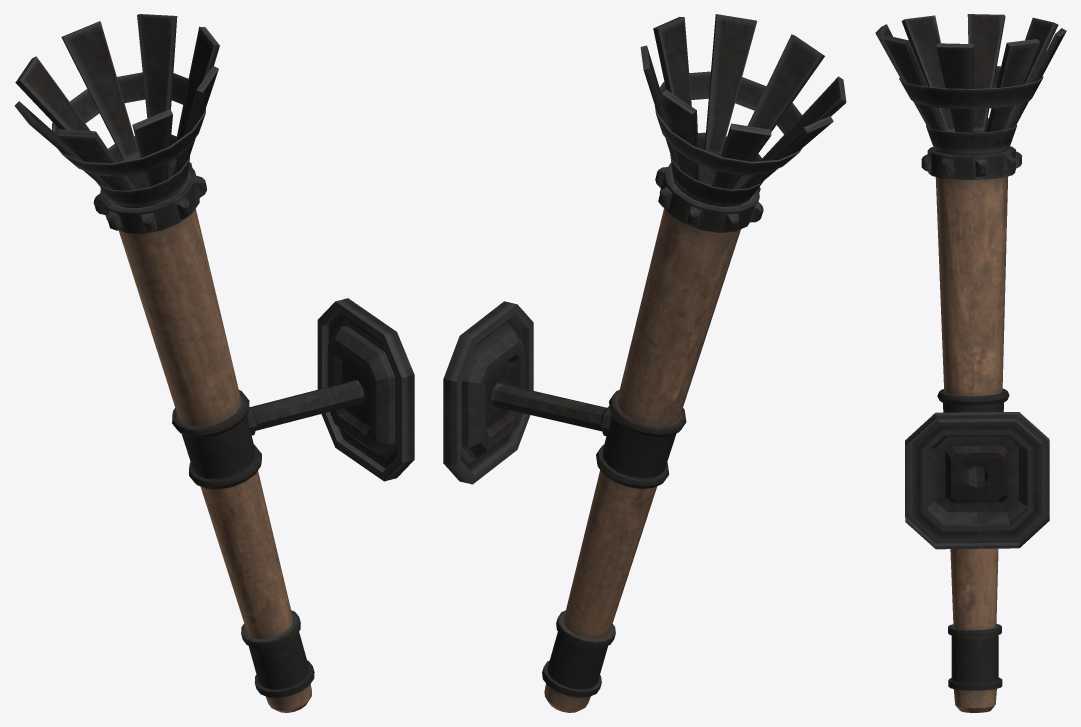
The model's file is Wall Iluminator.fbx.
The picture shows the model from 3 angles, left to right: view 1: azimuth 30°, elevation 25°; view 2: azimuth 150°, elevation 25°; view 3: azimuth 270°, elevation 25°; orthographic projection. The views are drawn at different scales.
Parts seen in each view (by area): view 1: Torch_Wall_Torch_0; view 2: Torch_Wall_Torch_0; view 3: Torch_Wall_Torch_0.
Part boxes in pixels (x1,y1,x2,y2): Torch_Wall_Torch_0: [14, 14, 414, 712]; Torch_Wall_Torch_0: [443, 14, 846, 712]; Torch_Wall_Torch_0: [875, 14, 1066, 712].
Size of the model in its own units: 49.58 by 95.17 by 26.27.
